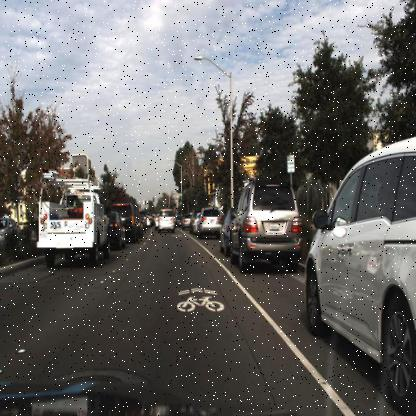car: (304, 131, 416, 410), (30, 156, 112, 276), (227, 176, 304, 283), (227, 177, 304, 275), (197, 201, 223, 242), (196, 203, 223, 241), (108, 200, 126, 256), (107, 206, 126, 256), (117, 202, 137, 245), (217, 198, 230, 262), (155, 203, 178, 235), (123, 198, 137, 248), (180, 206, 192, 234)
